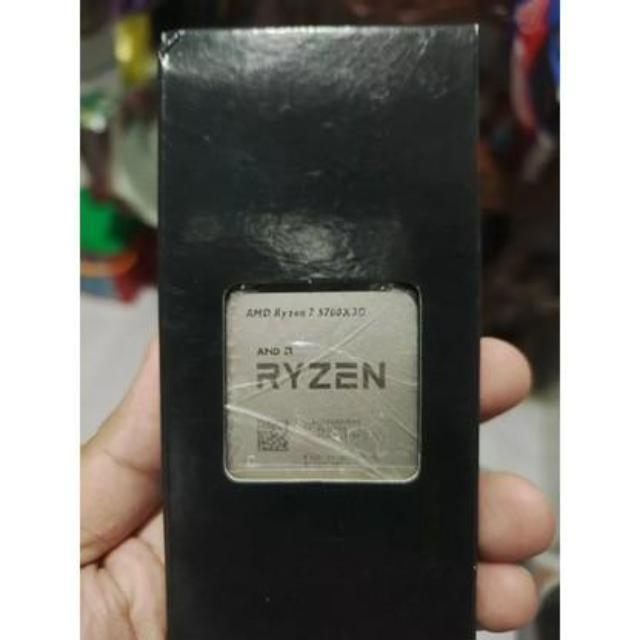CPU: (226, 293, 420, 479)
